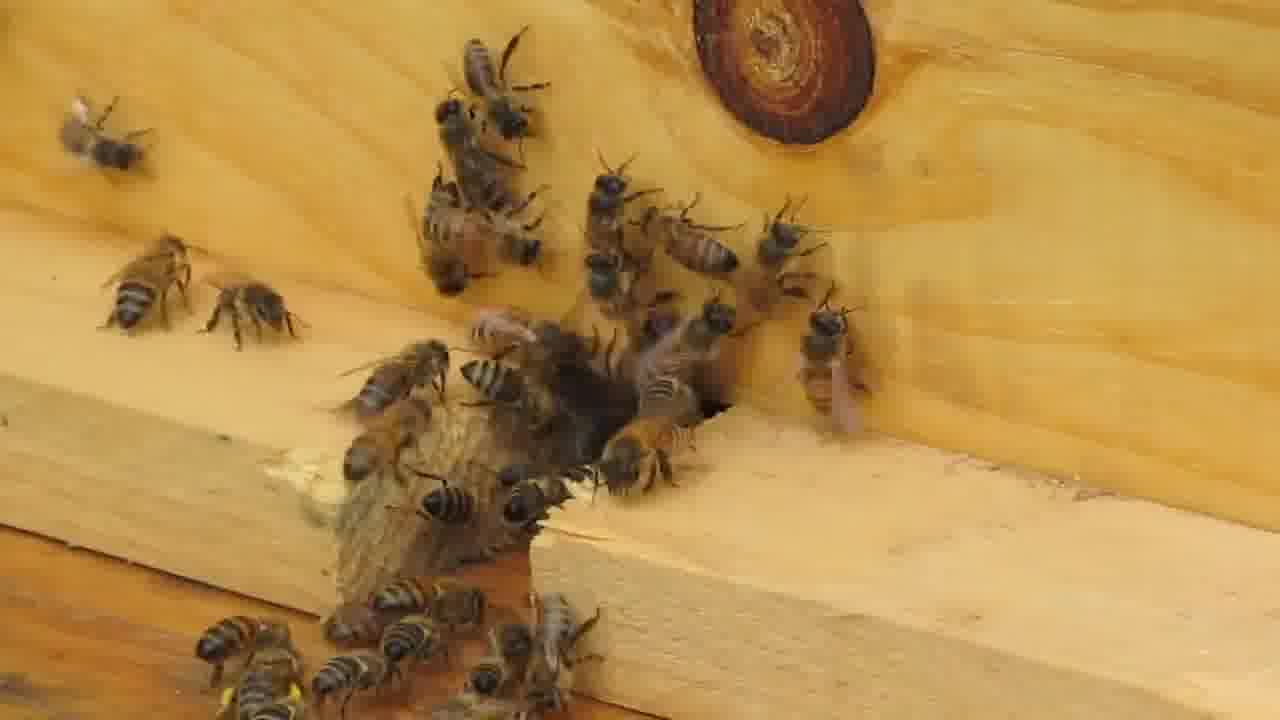pollen: (56, 90, 155, 182), (221, 649, 305, 719)
